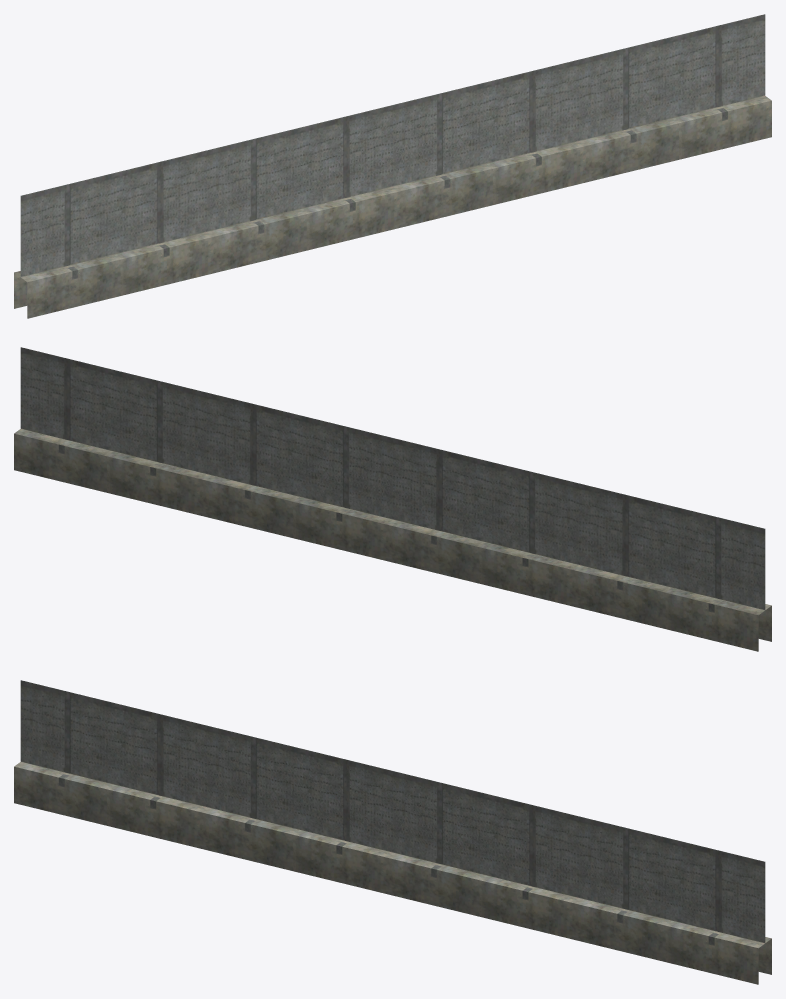
The model's file is thm_corl_imprv_wall_4x32_s03_l2.fbx.
3 renders of one model, top to bottom at view 1: azimuth 30°, elevation 25°; view 2: azimuth 150°, elevation 25°; view 3: azimuth 330°, elevation 25°, orthographic.
Visible parts, largest first — view 1: mesh_node; view 2: mesh_node; view 3: mesh_node.
Part boxes in pixels (left/top/right/bottom): mesh_node: left=14, top=14, right=771, bottom=318; mesh_node: left=14, top=347, right=771, bottom=651; mesh_node: left=14, top=680, right=771, bottom=984.
Size of the model in its own units: 32 by 4.85 by 1.
Materials: 2 (2 with a texture image).
